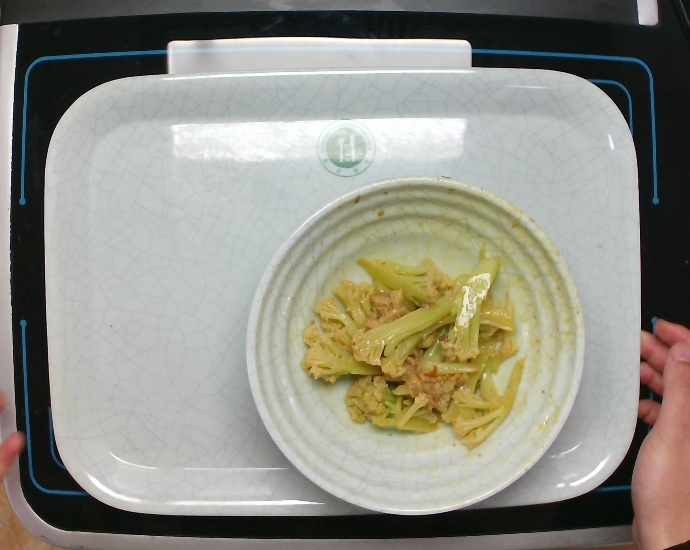JYsf-Da_Tang_Wan: (235, 163, 583, 521)
